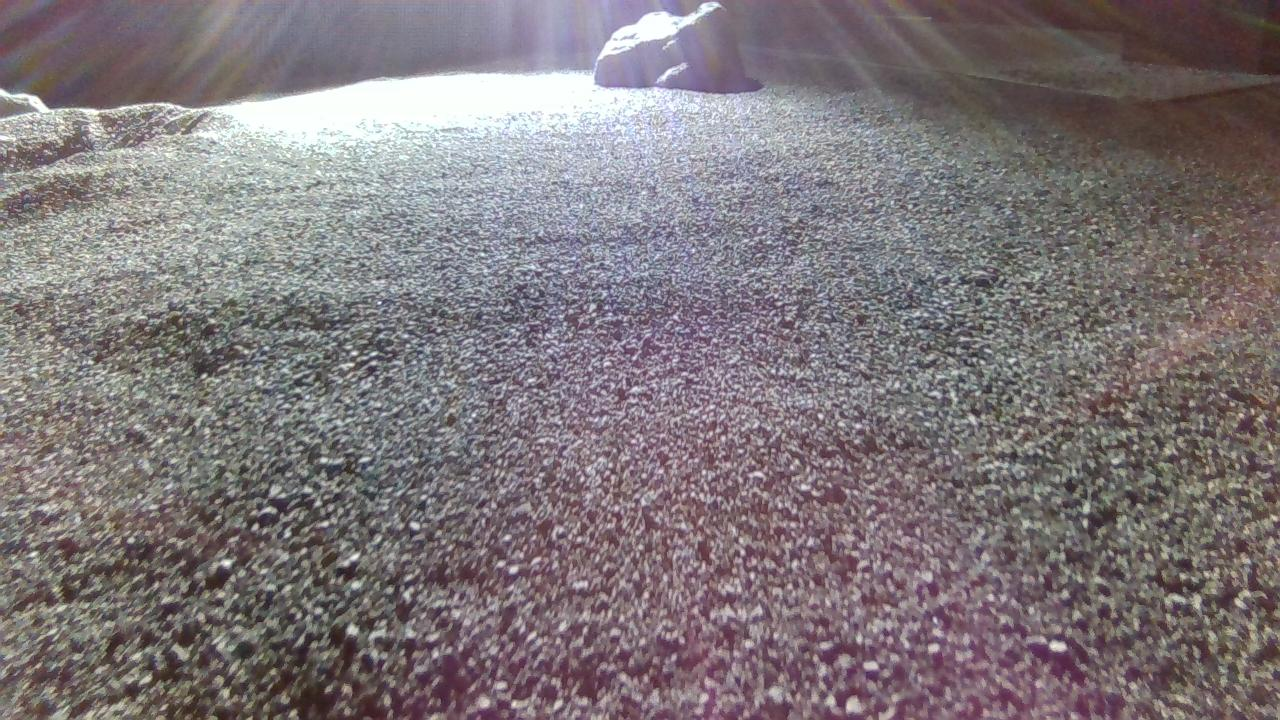rock: (595, 1, 750, 93), (0, 87, 46, 116)
